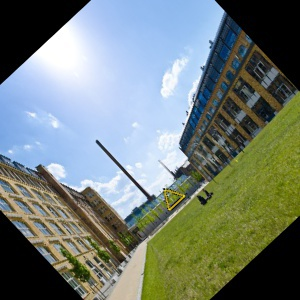triangle: (157, 184, 187, 213)
